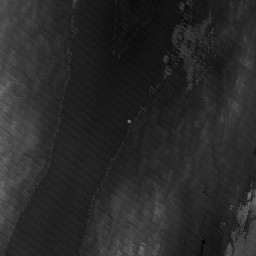Target: (125, 118, 132, 124)
